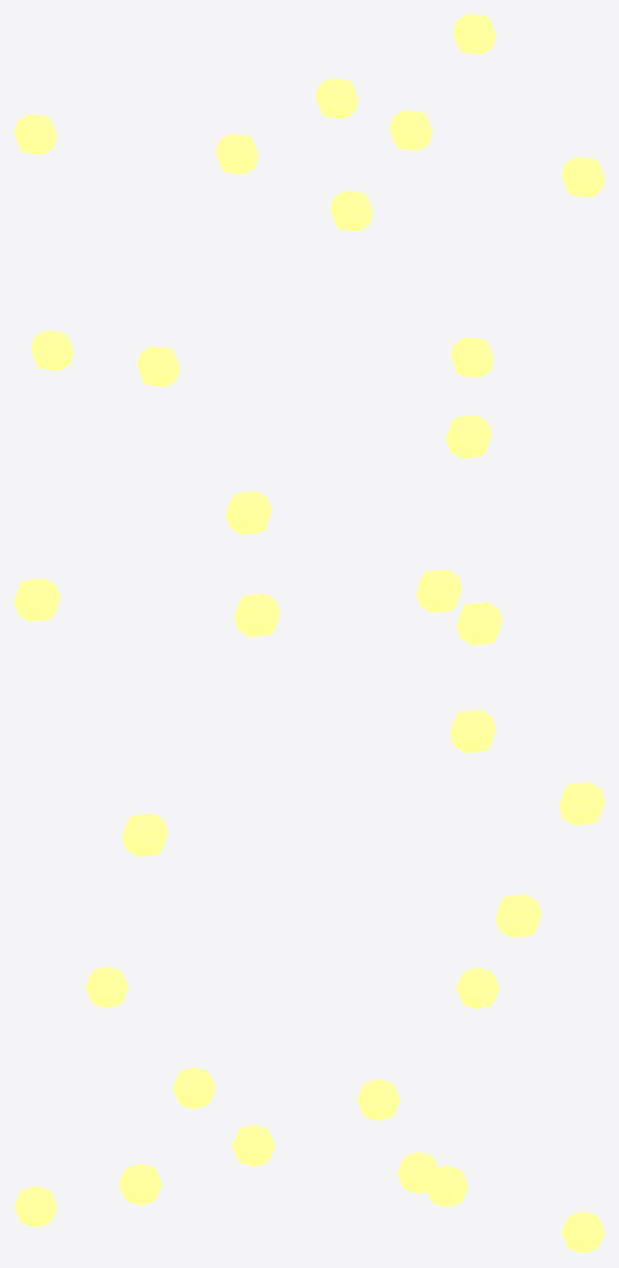
The model's file is Gluhwurmche2_3.fbx.
3 renders of one model, top to bottom at view 1: azimuth 30°, elevation 25°; view 2: azimuth 150°, elevation 25°; view 3: azimuth 270°, elevation 25°, orthographic. The views are drawn at different scales.
Parts seen in each view (by area): view 1: 立方体.009, 立方体.002, 立方体.006, 立方体.008, 立方体, 立方体.007, 立方体.005, 立方体.004, 立方体.001, 立方体.003; view 2: 立方体.005, 立方体.001, 立方体.003, 立方体.004, 立方体.008, 立方体.002, 立方体, 立方体.006, 立方体.007, 立方体.009; view 3: 立方体.005, 立方体.009, 立方体.006, 立方体.002, 立方体.003, 立方体.004, 立方体.001, 立方体.007, 立方体, 立方体.008.
Boxes of the visible parts, left/top/right/bottom form: 立方体.009: left=315, top=78, right=358, bottom=118; 立方体.002: left=215, top=134, right=258, bottom=174; 立方体.006: left=14, top=114, right=57, bottom=154; 立方体.008: left=30, top=330, right=73, bottom=370; 立方体: left=451, top=337, right=493, bottom=377; 立方体.007: left=330, top=191, right=373, bottom=231; 立方体.005: left=389, top=110, right=432, bottom=150; 立方体.004: left=453, top=14, right=496, bottom=54; 立方体.001: left=561, top=157, right=604, bottom=197; 立方体.003: left=137, top=346, right=179, bottom=386; 立方体.005: left=445, top=415, right=491, bottom=458; 立方体.001: left=225, top=491, right=271, bottom=534; 立方体.003: left=558, top=782, right=604, bottom=825; 立方体.004: left=14, top=578, right=60, bottom=621; 立方体.008: left=495, top=894, right=541, bottom=937; 立方体.002: left=122, top=813, right=167, bottom=856; 立方体: left=456, top=602, right=502, bottom=644; 立方体.006: left=450, top=710, right=495, bottom=752; 立方体.007: left=416, top=569, right=461, bottom=612; 立方体.009: left=234, top=593, right=280, bottom=636; 立方体.005: left=85, top=966, right=128, bottom=1008; 立方体.009: left=357, top=1079, right=400, bottom=1121; 立方体.006: left=456, top=967, right=499, bottom=1009; 立方体.002: left=561, top=1211, right=604, bottom=1253; 立方体.003: left=232, top=1125, right=275, bottom=1166; 立方体.004: left=425, top=1165, right=468, bottom=1207; 立方体.001: left=119, top=1163, right=162, bottom=1205; 立方体.007: left=172, top=1067, right=215, bottom=1108; 立方体: left=14, top=1186, right=57, bottom=1227; 立方体.008: left=397, top=1152, right=438, bottom=1193.
Size of the model in its own units: 163 by 106 by 176.
